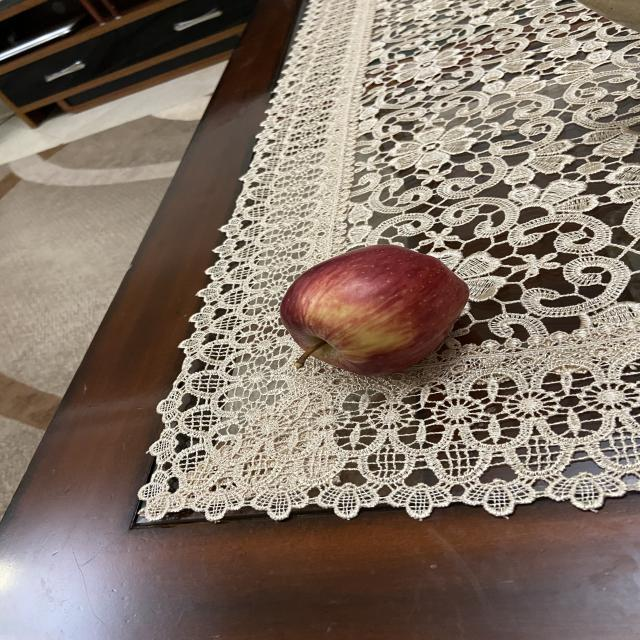apple: (272, 244, 476, 384)
